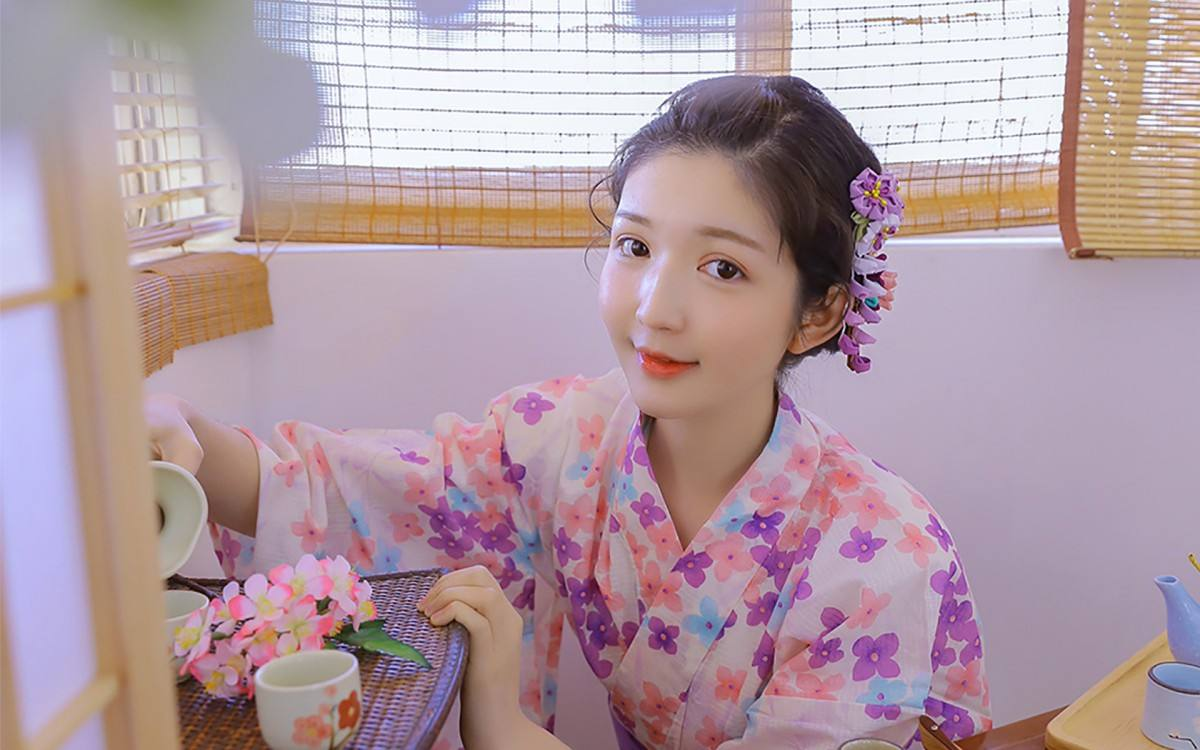person: (480, 63, 1004, 734)
